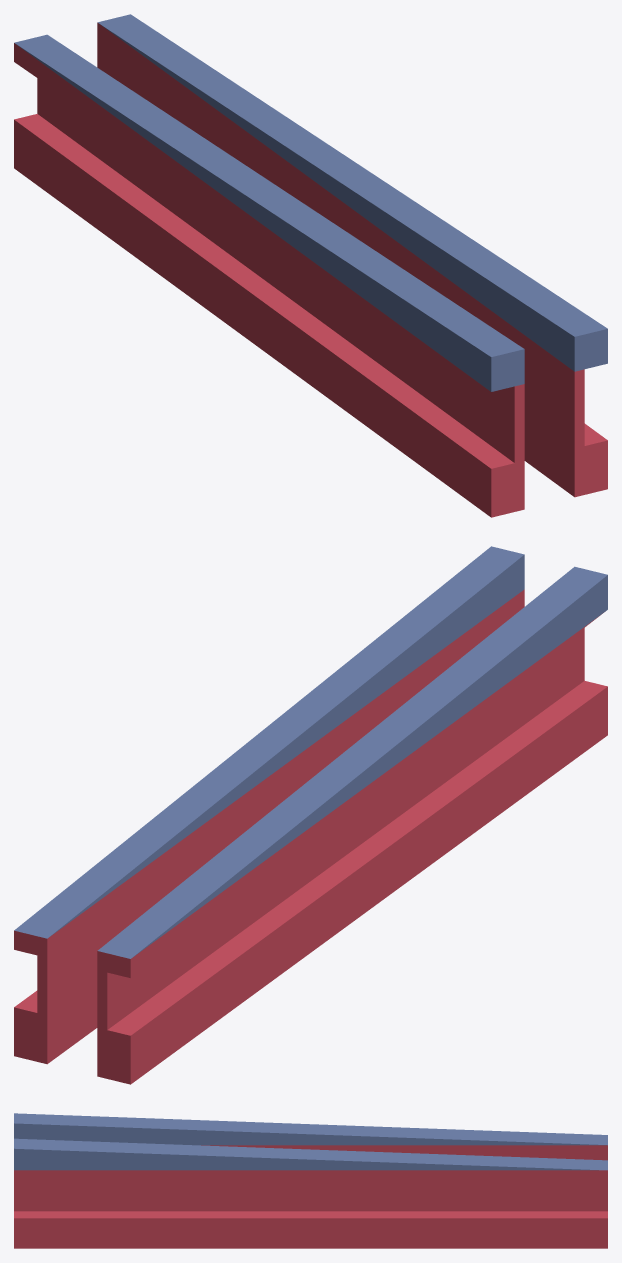
The model's file is Grand Elzing.glb.
3 renders of one model, top to bottom at view 1: azimuth 30°, elevation 25°; view 2: azimuth 150°, elevation 25°; view 3: azimuth 270°, elevation 25°, orthographic. The views are drawn at different scales.
Parts seen in each view (by area): view 1: Mesh_Mesh_head_geo.001_lambert2SG.001; view 2: Mesh_Mesh_head_geo.001_lambert2SG.001; view 3: Mesh_Mesh_head_geo.001_lambert2SG.001.
Part boxes in pixels (box(x1,y1,x2,y2)): Mesh_Mesh_head_geo.001_lambert2SG.001: box(14, 14, 607, 517); Mesh_Mesh_head_geo.001_lambert2SG.001: box(14, 546, 607, 1084); Mesh_Mesh_head_geo.001_lambert2SG.001: box(14, 1113, 607, 1248).
Bounding box in the file's own units: 17.5 × 23 × 124.
